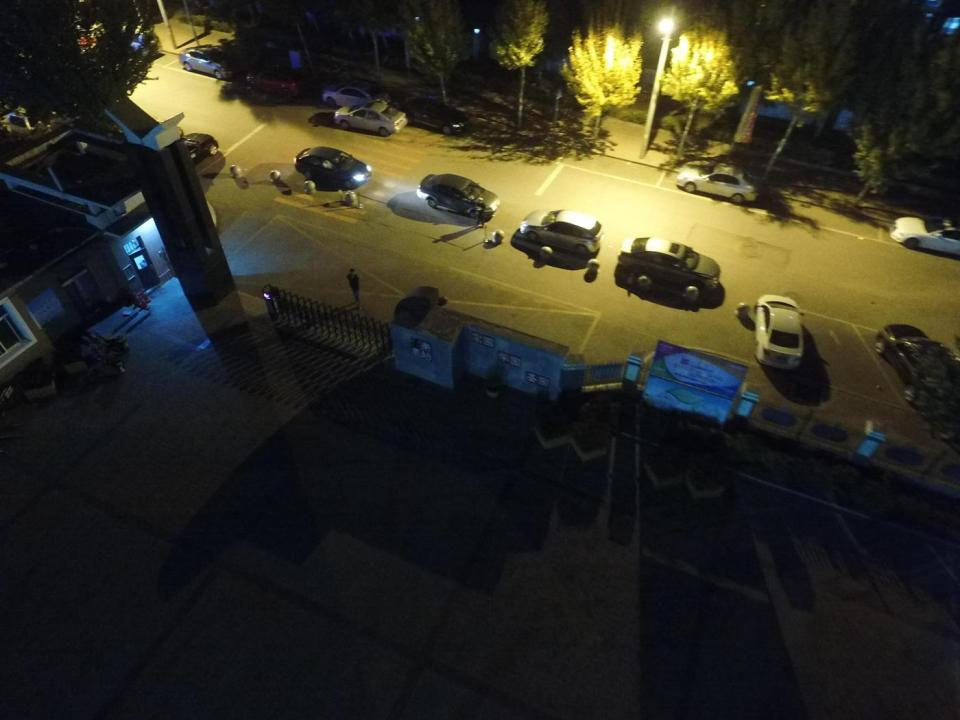car: (875, 324, 960, 432), (618, 235, 723, 291), (678, 156, 768, 204), (418, 173, 501, 221), (520, 209, 603, 255), (754, 294, 803, 371), (295, 149, 370, 190), (402, 94, 470, 136), (891, 216, 960, 256), (334, 102, 407, 137), (152, 132, 218, 170), (180, 43, 241, 78), (246, 63, 308, 96), (323, 82, 391, 108)
